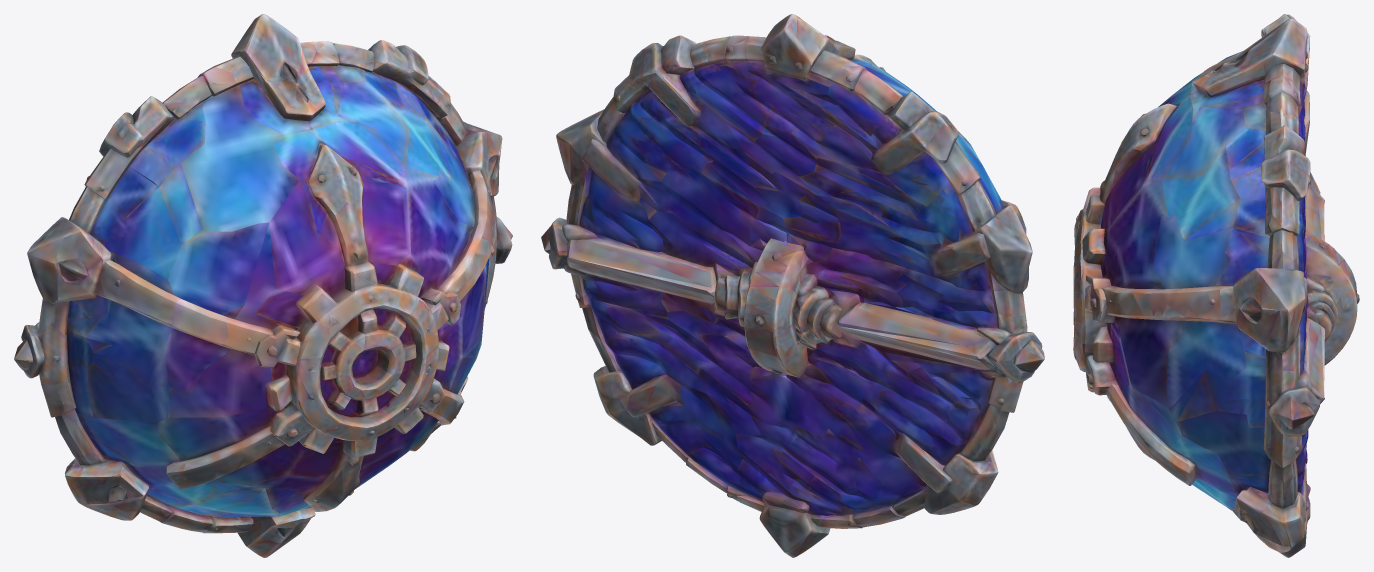
The model's file is crystal-shield.glb.
3 views of the same model, side by side, from view 1: azimuth 30°, elevation 25°; view 2: azimuth 150°, elevation 25°; view 3: azimuth 270°, elevation 25° (orthographic).
Bounding box in the file's own units: 1.83 × 1.9 × 0.9158.
1 material, 1 textured.
